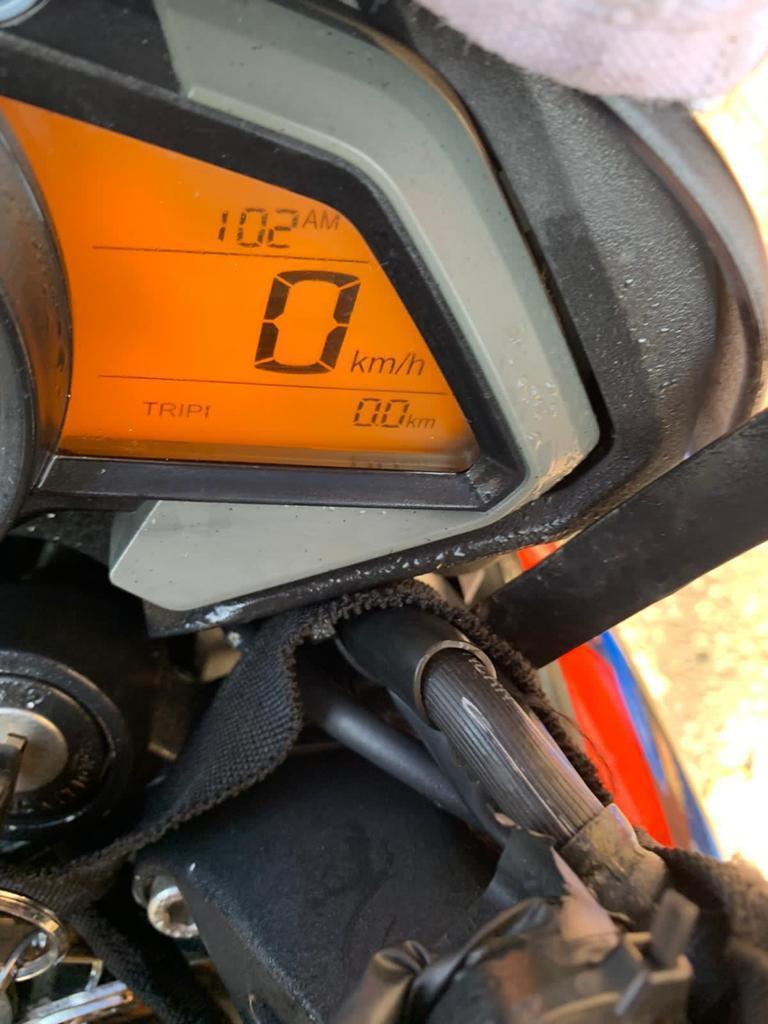,: (374, 422, 380, 429)
0: (250, 267, 360, 376), (234, 204, 267, 249), (350, 395, 381, 428), (381, 397, 408, 429)
1: (213, 205, 230, 245), (203, 403, 211, 419)
2: (267, 205, 299, 249)
X: (367, 353, 395, 375), (349, 347, 367, 374), (319, 209, 339, 231), (301, 207, 318, 230), (395, 349, 410, 375), (407, 353, 422, 376), (157, 402, 177, 417), (185, 402, 202, 419), (141, 400, 157, 416), (418, 416, 434, 429), (406, 412, 417, 428), (177, 402, 185, 417)
odometer: (0, 90, 536, 483)
